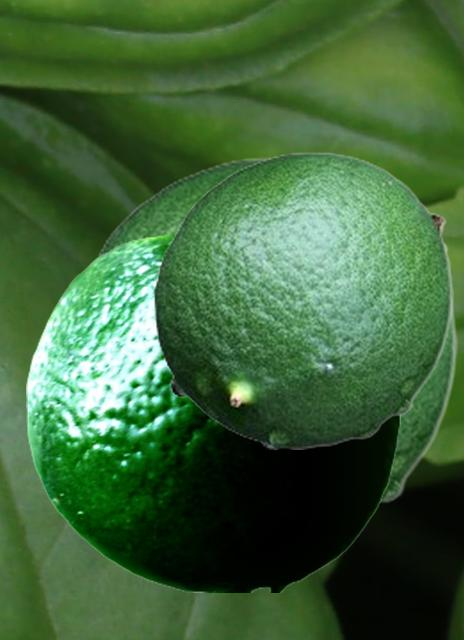calamansi: (26, 230, 399, 591), (91, 156, 456, 507), (153, 151, 452, 448)
